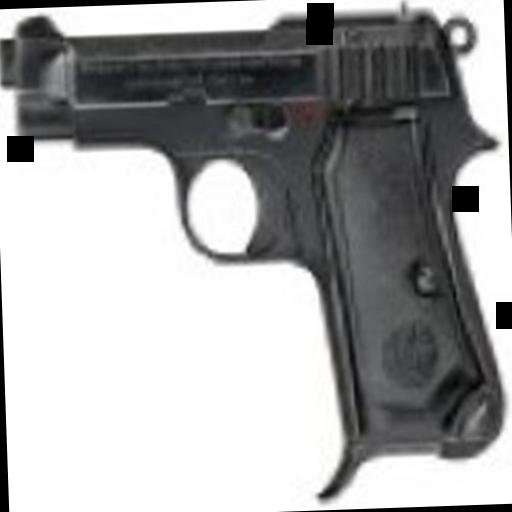Handgun: (0, 0, 502, 476)
